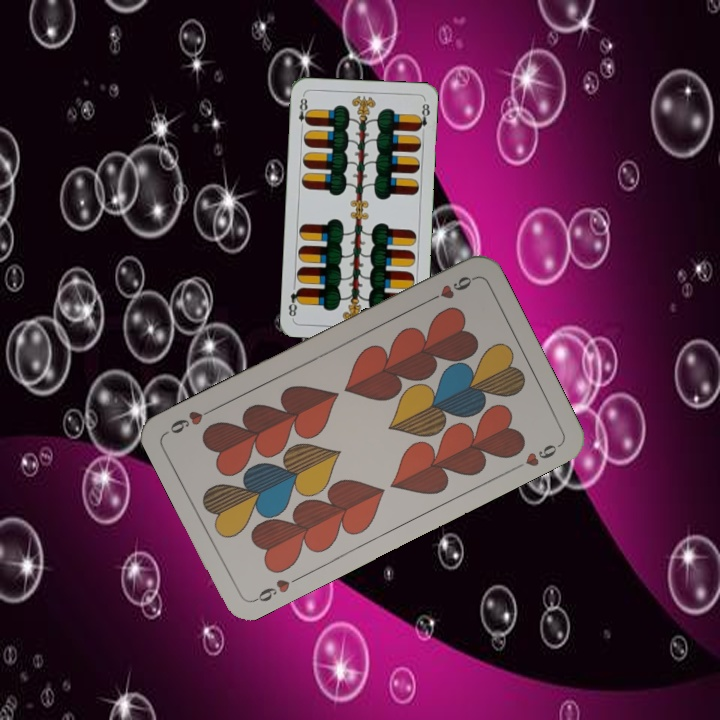E8: (294, 92, 312, 132)
H9: (422, 271, 478, 306), (249, 572, 304, 605)
